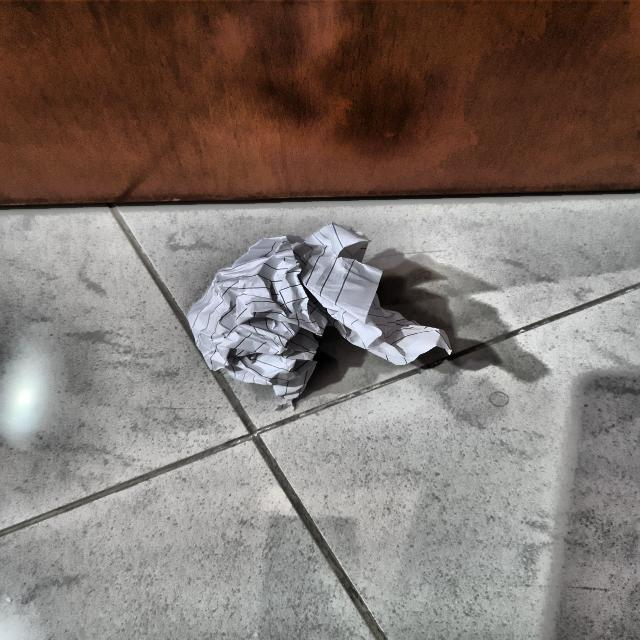Paper: (189, 219, 456, 407)
